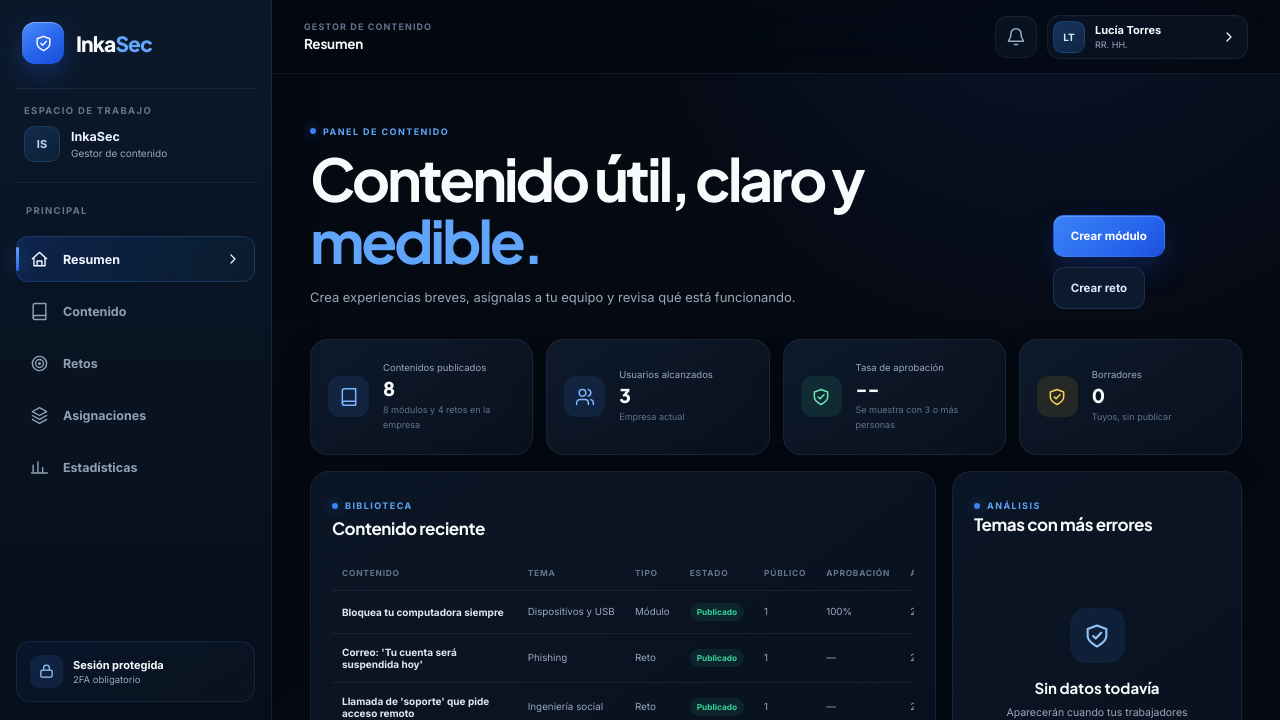
gestor de contenido › abre el editor de retos desde la biblioteca de retos
Expected: the heading "Contenido útil, claro y medible." is shown, [310,141,863,276]
Click the button "Retos" at (136, 363), box [16,340,255,386]
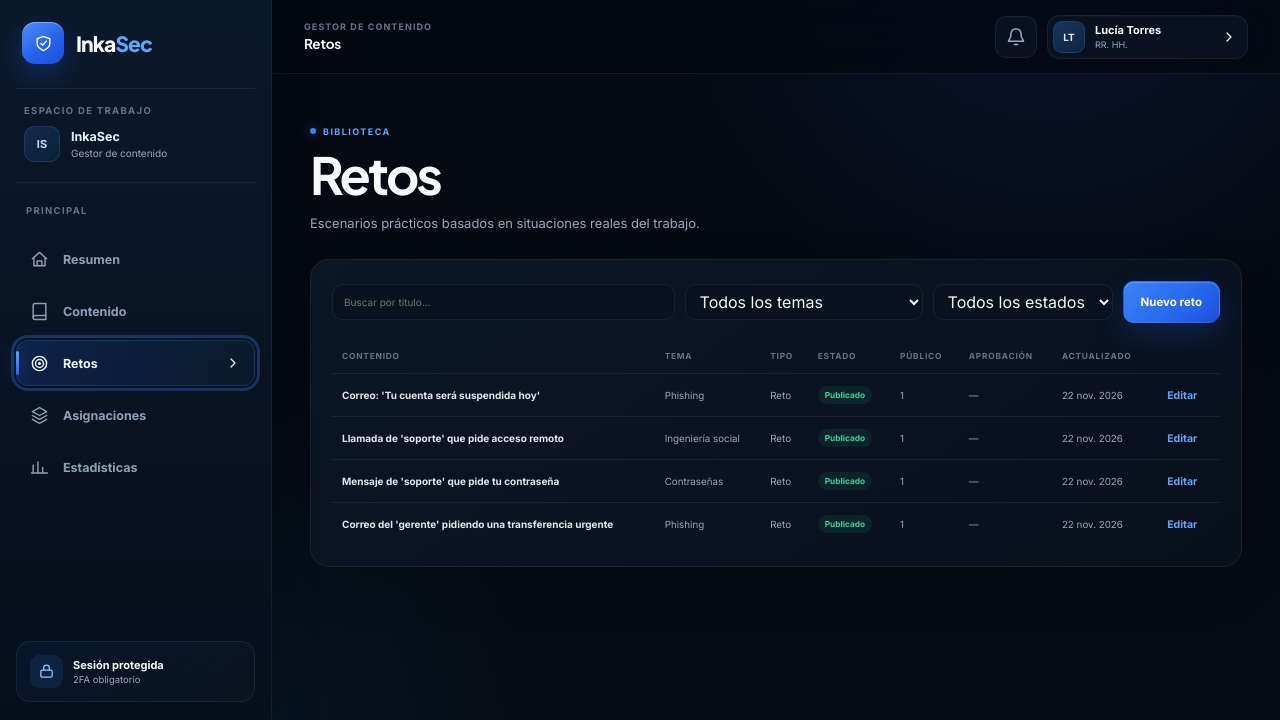
Click the button "Nuevo reto" at (1171, 302), box [1122,281,1220,323]
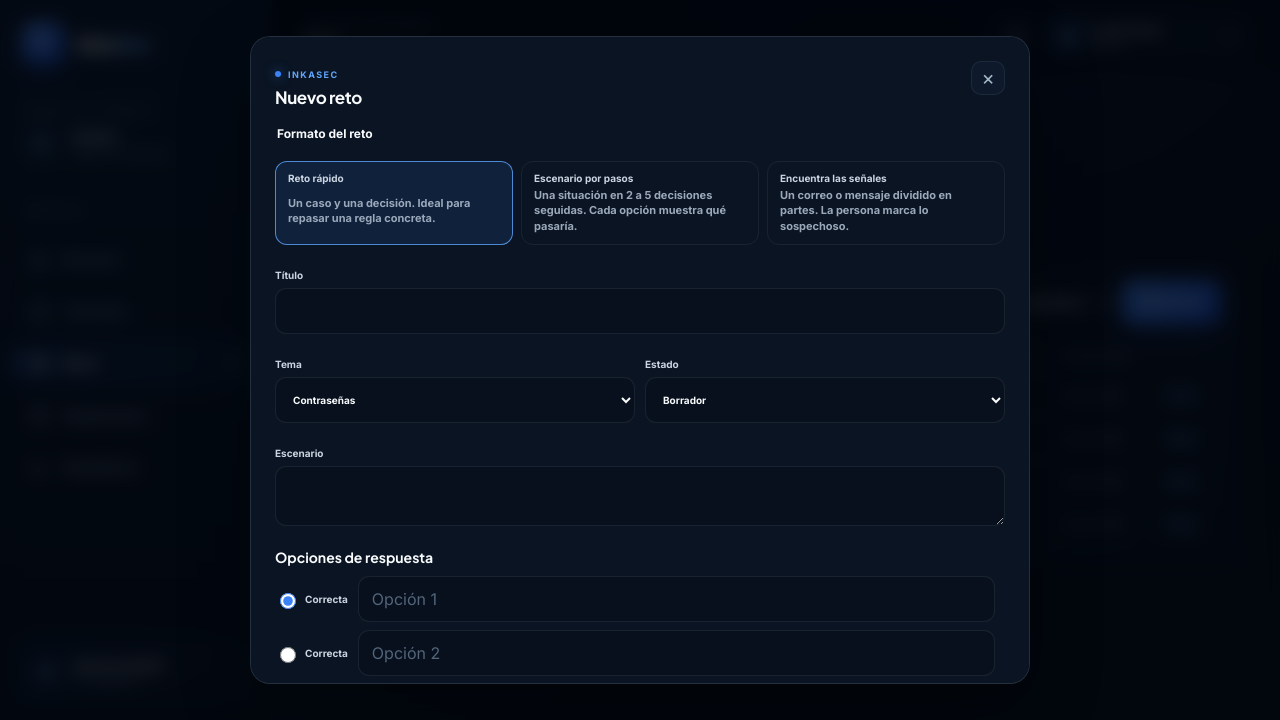
Expected: the dialog "Nuevo reto" is shown, [250,36,1030,684]
Expected: the radio button labelled "Encuentra las señales" is shown, [767,161,1005,245]
